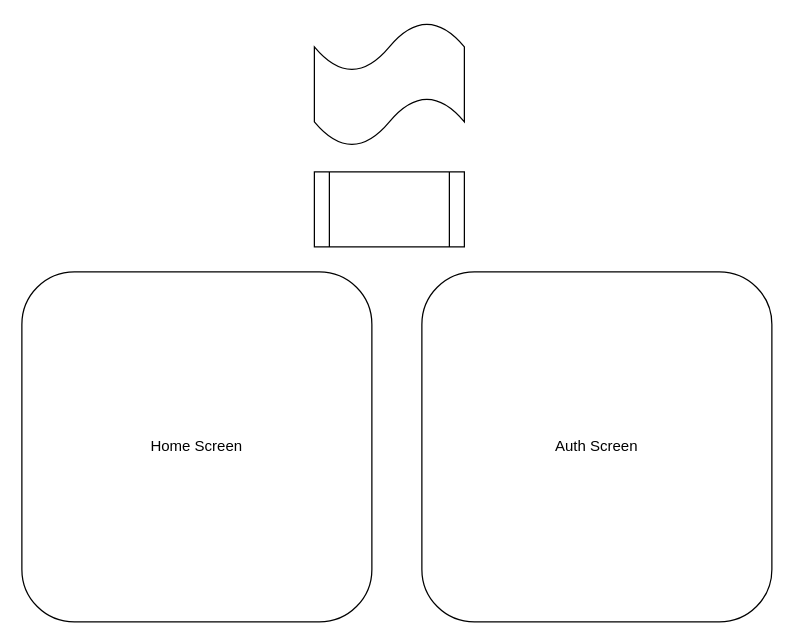
Some shapes in this 794 by 644 pixel diagram are drawn without their labels. Each missing label, with the centre of its shape:
Auth Gate: (x=388, y=209)
Splash Screen: (x=388, y=84)
